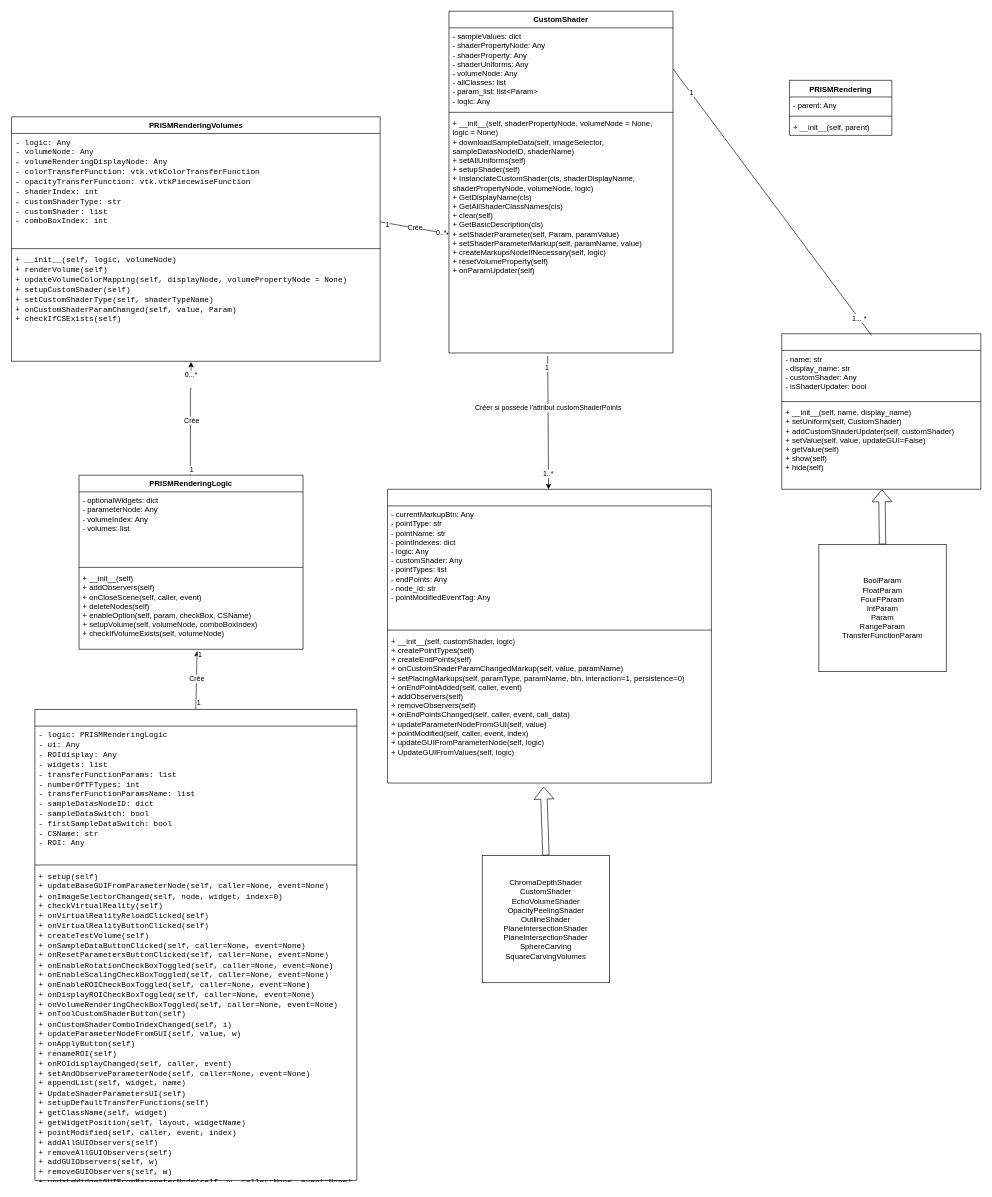
Some shapes in this 992 by 1197 pixel diagram are drawn without their labels. Each missing label, with the box of its shape:
CustomShaderPoints: (387, 489, 711, 783)
Param: (781, 333, 981, 489)
PRISMRenderingWidget: (34, 709, 357, 1180)
